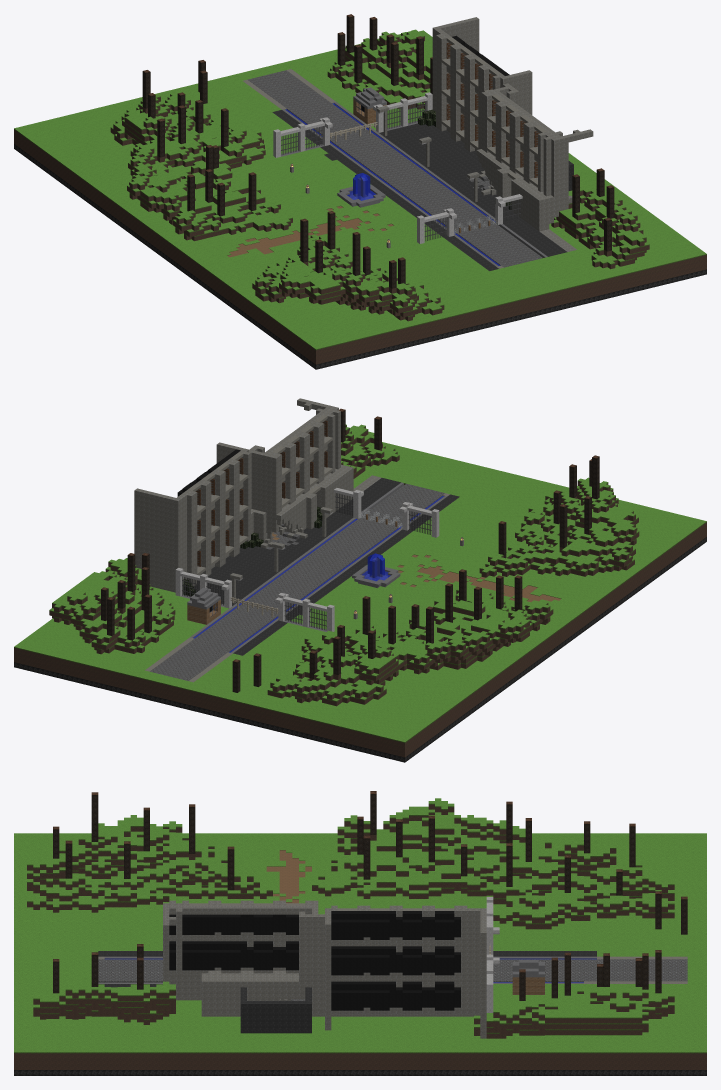
The model's file is level_1.glb.
3 views of the same model, one above another, from view 1: azimuth 30°, elevation 25°; view 2: azimuth 150°, elevation 25°; view 3: azimuth 270°, elevation 25° (orthographic). The views are drawn at different scales.
Visible parts, largest first — view 1: Grass_Block.001, Grass_Block, Stone_Bricks, Cobblestone, Spruce_Log, Dirt, Deepslate_Bricks, Bedrock, Polished_Andesite_Stairs, Stone_Stairs, Iron_Bars, Polished_Diorite (+4 smaller); view 2: Grass_Block.001, Grass_Block, Stone_Bricks, Cobblestone, Spruce_Log, Dirt, Deepslate_Bricks, Bedrock, Polished_Andesite_Stairs, Stone_Stairs, Polished_Diorite, Iron_Bars (+5 smaller); view 3: Grass_Block.001, Grass_Block, Stone_Bricks, Black_Terracotta, Spruce_Log, Dirt, Cobblestone, Bedrock, Deepslate_Bricks, Dirt_Path, Polished_Andesite_Stairs, Polished_Diorite (+3 smaller).
Part boxes in pixels (x1,y1,x2,y2): Grass_Block.001: (14, 29, 706, 349); Grass_Block: (14, 32, 706, 354); Stone_Bricks: (350, 17, 593, 251); Cobblestone: (248, 70, 542, 267); Spruce_Log: (142, 14, 614, 288); Dirt: (14, 51, 706, 364); Deepslate_Bricks: (272, 110, 573, 270); Bedrock: (14, 144, 706, 369); Polished_Andesite_Stairs: (282, 93, 547, 266); Stone_Stairs: (441, 37, 547, 187); Iron_Bars: (281, 101, 520, 241); Polished_Diorite: (273, 92, 502, 243); Grass_Block.001: (14, 424, 706, 741); Grass_Block: (14, 425, 706, 747); Stone_Bricks: (134, 398, 387, 592); Cobblestone: (150, 483, 444, 680); Spruce_Log: (101, 408, 599, 692); Dirt: (14, 448, 706, 757); Deepslate_Bricks: (194, 478, 459, 655); Bedrock: (14, 537, 706, 762); Polished_Andesite_Stairs: (190, 482, 446, 653); Stone_Stairs: (188, 415, 332, 575); Polished_Diorite: (175, 490, 439, 631); Iron_Bars: (182, 493, 431, 630); Grass_Block.001: (14, 798, 706, 1052); Grass_Block: (14, 803, 706, 1058); Stone_Bricks: (163, 900, 486, 1038); Black_Terracotta: (169, 911, 460, 1010); Spruce_Log: (53, 791, 687, 1000); Dirt: (14, 835, 706, 1069); Cobblestone: (98, 959, 687, 1000); Bedrock: (14, 1070, 706, 1075); Deepslate_Bricks: (98, 951, 596, 1033); Dirt_Path: (266, 850, 311, 903); Polished_Andesite_Stairs: (98, 956, 596, 983); Polished_Diorite: (486, 897, 493, 1012).
Size of the model in its own units: 80 by 22 by 107.
27 materials, 27 textured.
